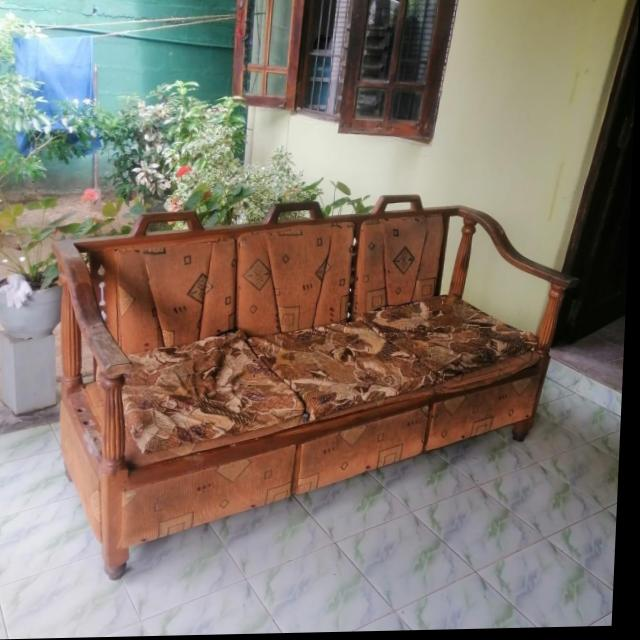Sofa: (43, 193, 586, 581)
